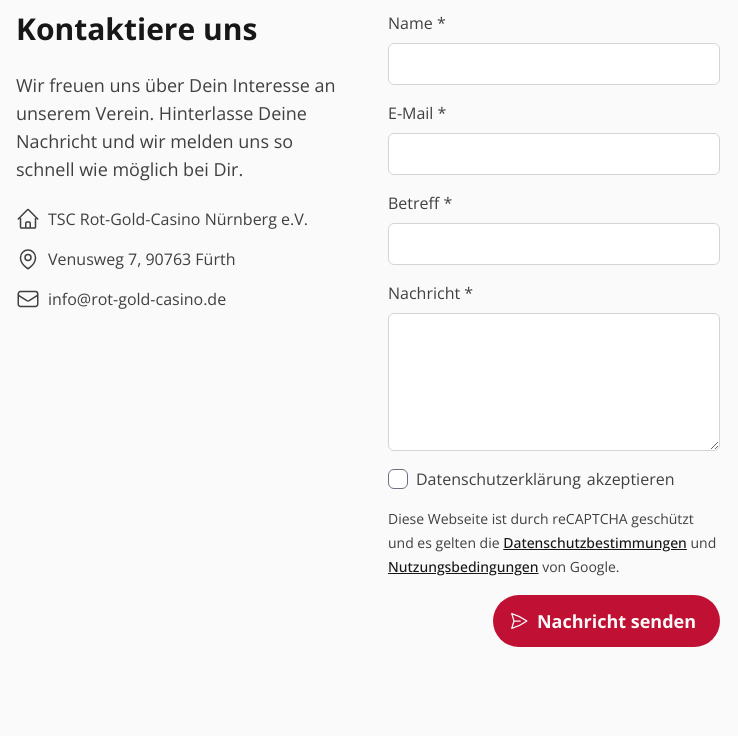
Scenario: ContactForm › shows validation errors when submitted empty
Click the button "Nachricht senden": (606, 621) [493,595,720,647]
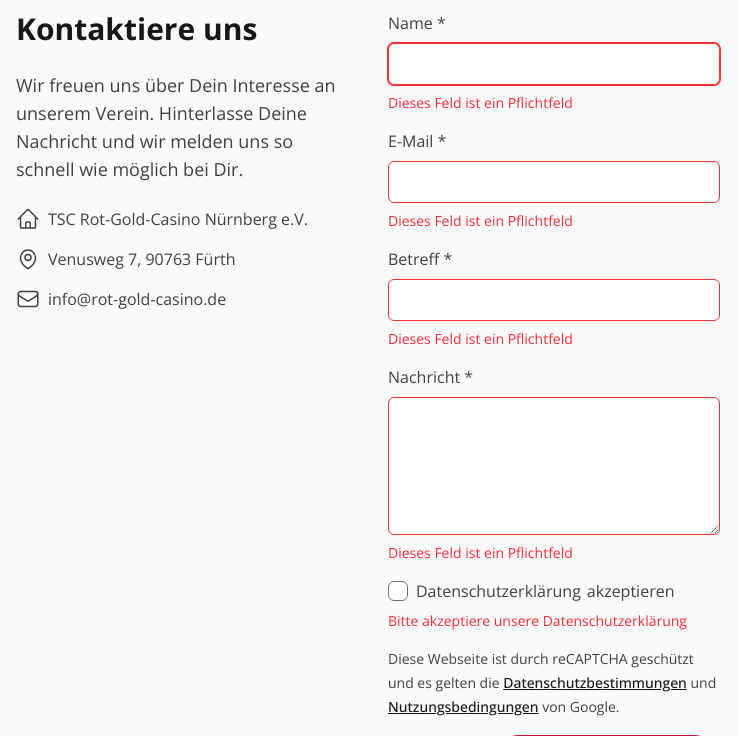
Expected: the text "Dieses Feld ist ein Pflichtfeld" is shown 4 times, [388,93,573,112]; [388,211,573,230]; [388,329,573,348]; [388,543,573,562]
Expected: the text "Bitte akzeptiere unsere Datenschutzerklärung" is shown, [388,611,720,631]
